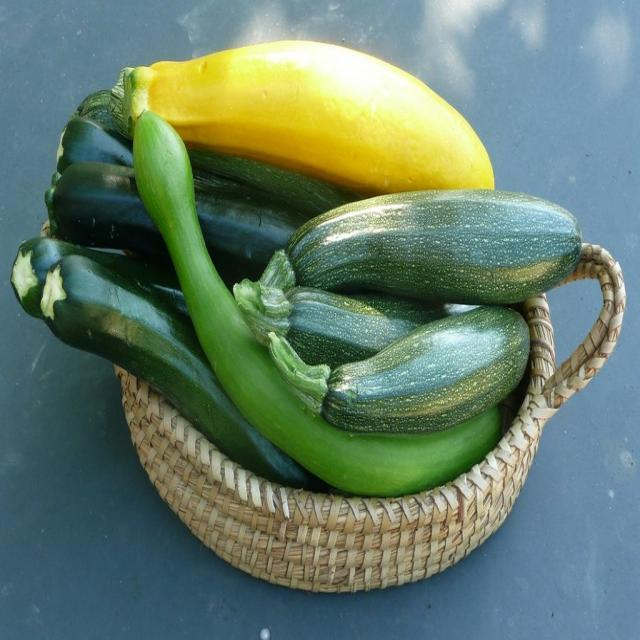Zucchini: (147, 106, 499, 512), (39, 257, 314, 497), (111, 36, 491, 204), (255, 182, 585, 311), (270, 303, 531, 436), (73, 85, 339, 207), (45, 153, 297, 264), (9, 232, 212, 334), (236, 278, 439, 376), (55, 108, 139, 173)
